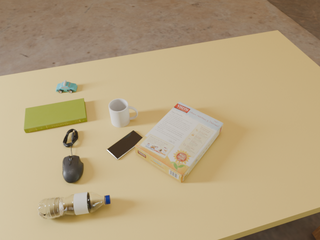book: (24, 98, 87, 133)
bottle: (38, 192, 110, 220)
box: (135, 102, 223, 183)
cup: (109, 99, 138, 127)
mouse: (63, 155, 83, 183)
phone: (107, 130, 143, 160)
toy_car: (56, 80, 77, 93)
